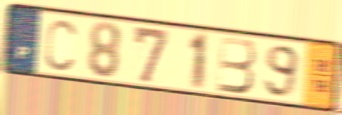1: (187, 30, 213, 93)
7: (132, 24, 170, 85)
8: (87, 20, 123, 80)
9: (263, 43, 302, 99)
B: (215, 35, 258, 96)
C: (43, 17, 78, 73)
